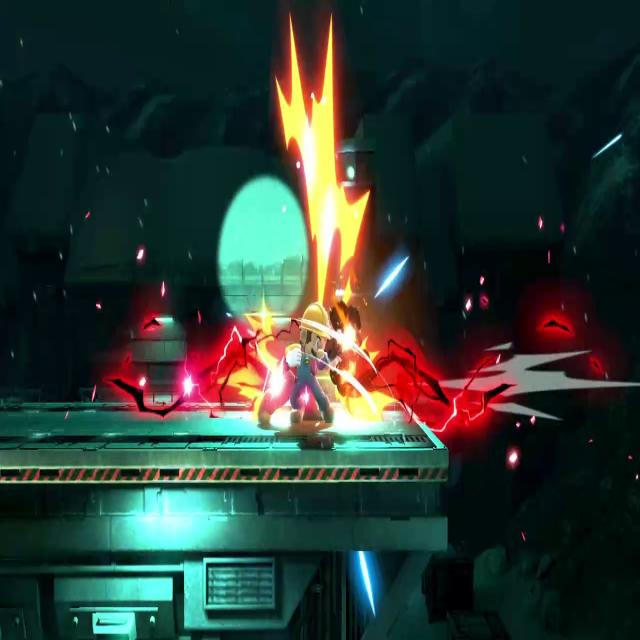Mario: (286, 316, 340, 434)
Mario-FS: (256, 298, 343, 434)
